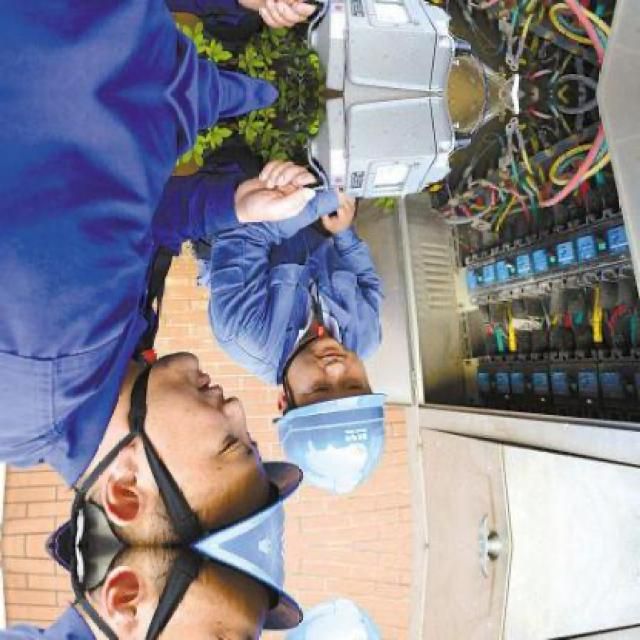con casco: (43, 360, 293, 587), (245, 335, 420, 509)
